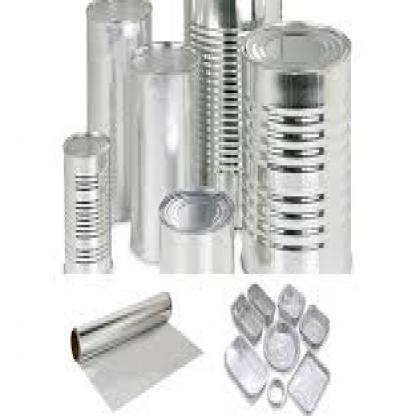METAL: (239, 18, 350, 271), (180, 0, 280, 228), (126, 38, 197, 263), (69, 292, 202, 406), (85, 0, 150, 220), (63, 129, 110, 269), (158, 183, 234, 269), (223, 333, 266, 403), (287, 346, 327, 411), (263, 321, 298, 370), (230, 292, 262, 341), (298, 302, 327, 341), (276, 282, 303, 320), (246, 282, 272, 320), (267, 377, 283, 401)
